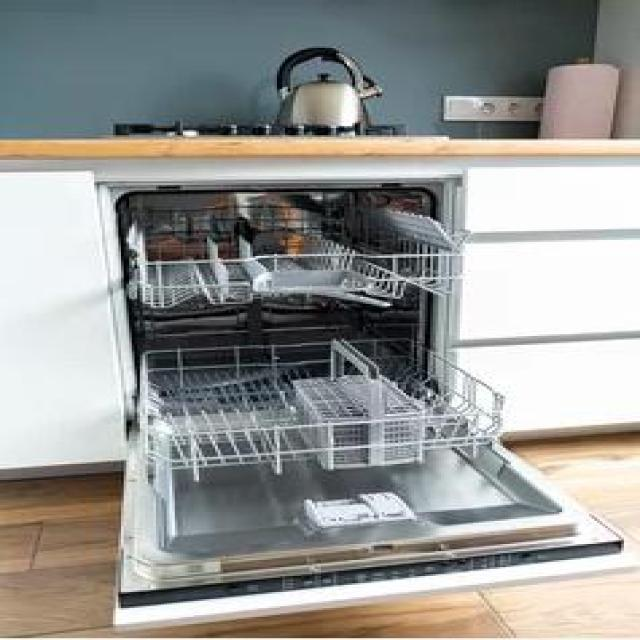dishwasher: (94, 171, 637, 631)
